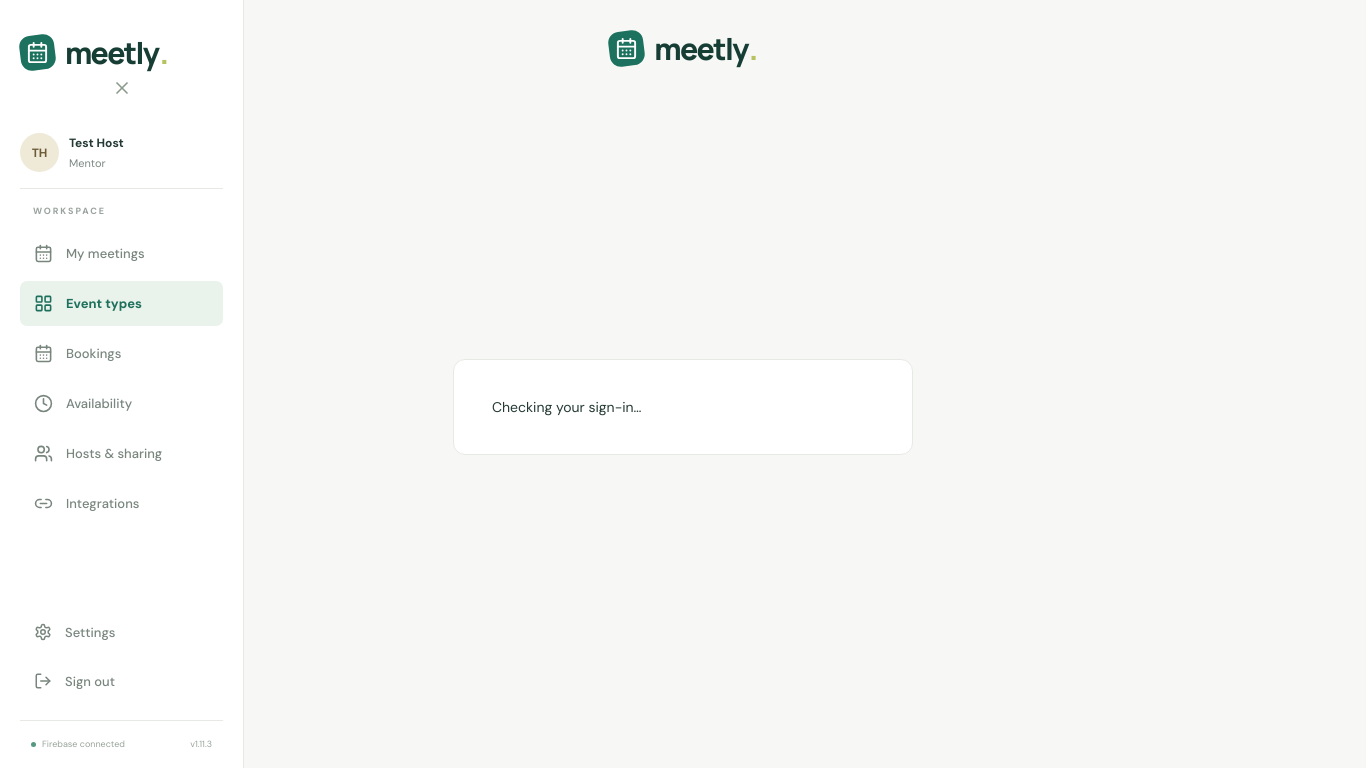
Test case: workspace stays loaded across navigation and does not refresh on a timer
Step 1. Click the link "Availability" → click(83, 404), box left=34, top=394, right=132, bottom=413
Wait 90000 ms
(page scrolled)
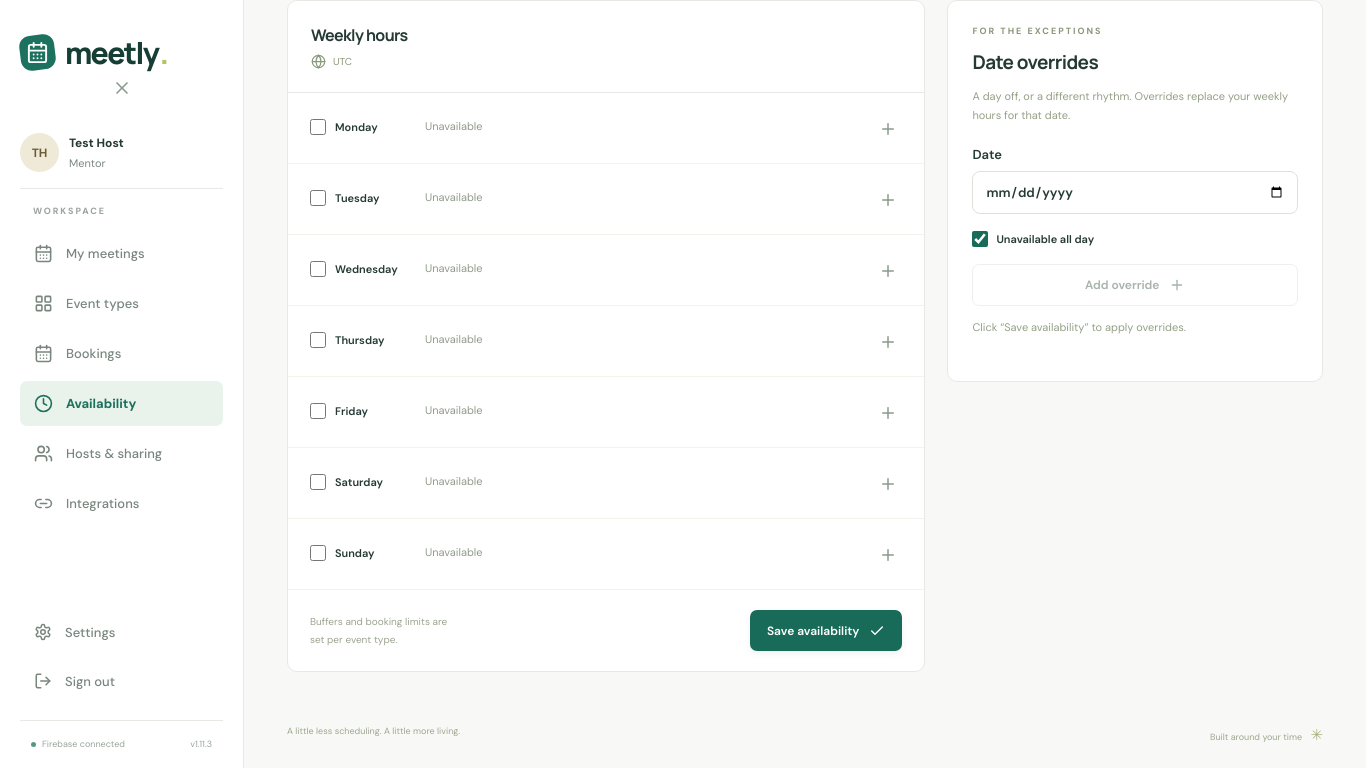
Now the button "Save availability" is shown, box left=750, top=610, right=902, bottom=651
